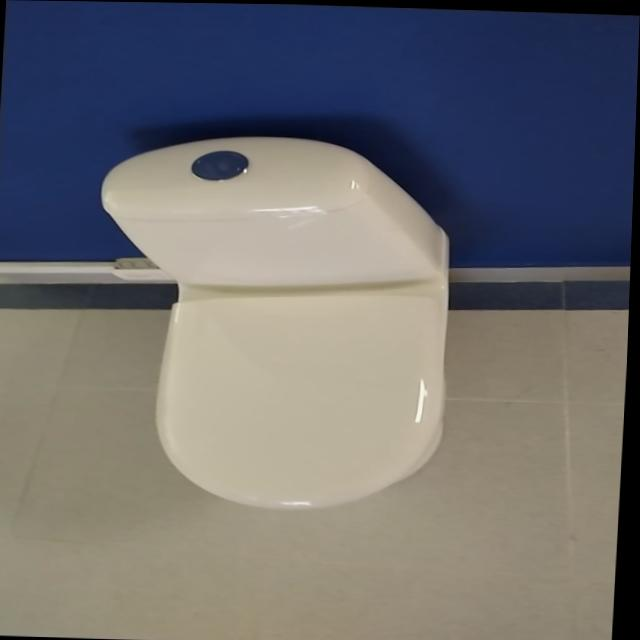toilet: (87, 129, 462, 513)
